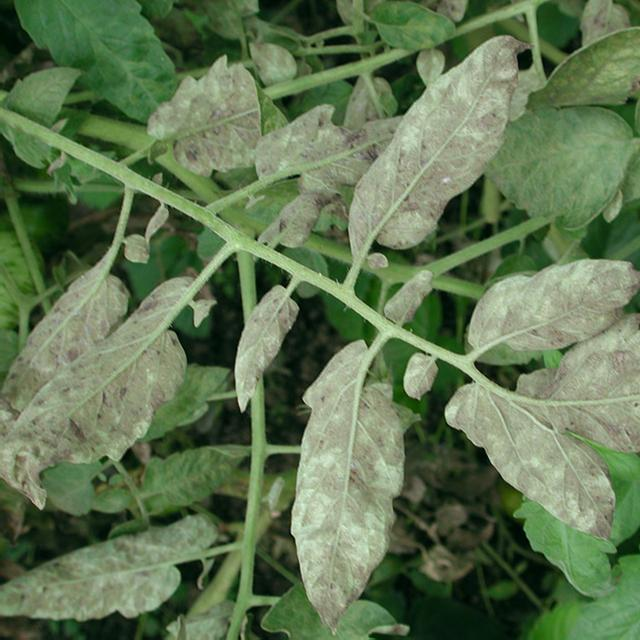Tomato mold leaf: (12, 0, 174, 113), (487, 114, 640, 233)
